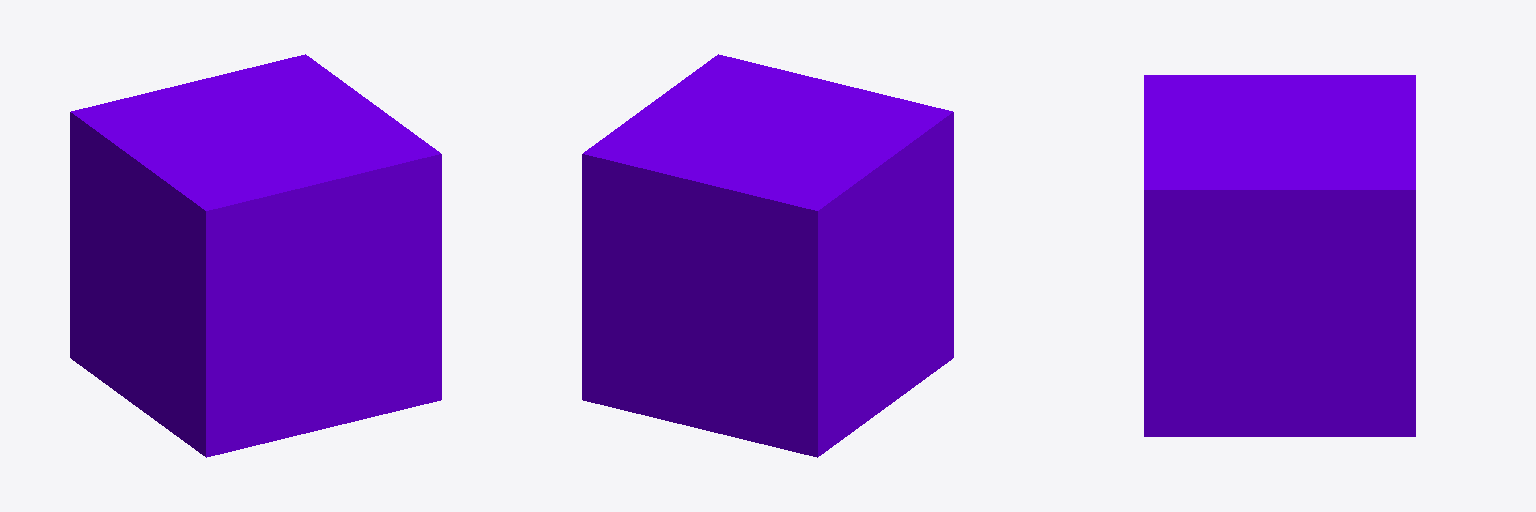
File: cube_ception.obj
3 renders of one model, left to right at view 1: azimuth 30°, elevation 25°; view 2: azimuth 150°, elevation 25°; view 3: azimuth 270°, elevation 25°, orthographic.
Visible parts, largest first — view 1: pCube18; view 2: pCube18; view 3: pCube18.
Boxes of the visible parts, x1=… form: pCube18: x1=70, y1=54, x2=441, y2=457; pCube18: x1=582, y1=54, x2=953, y2=457; pCube18: x1=1144, y1=75, x2=1415, y2=436.
Size of the model in its own units: 1 by 1 by 1.